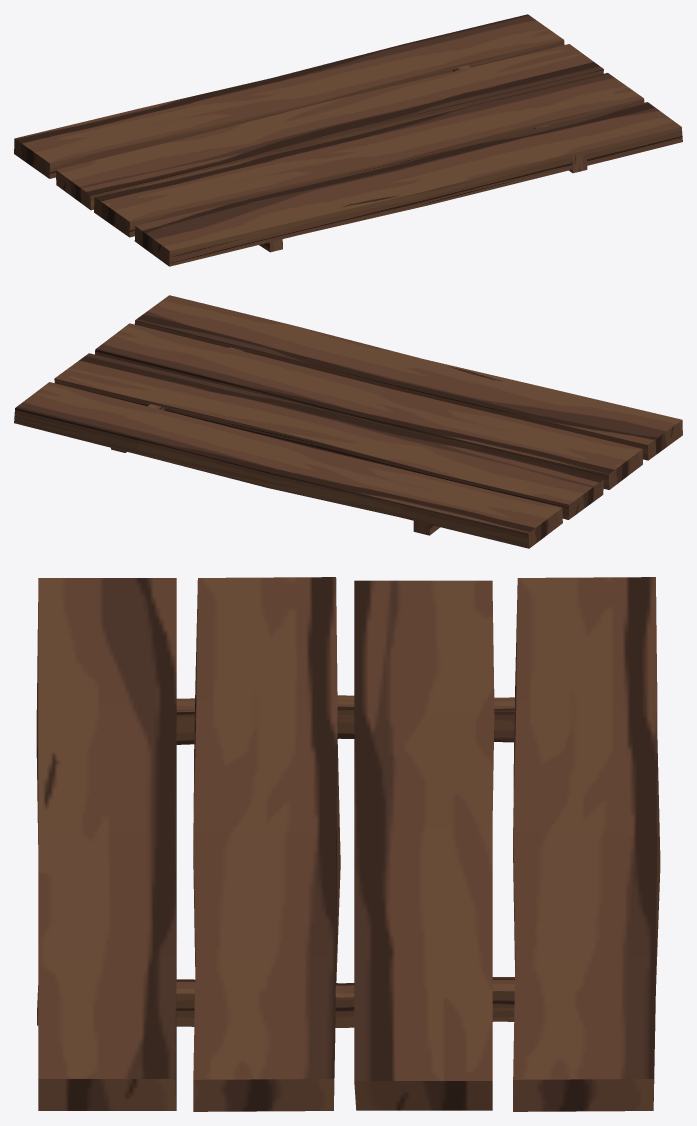
The model's file is fence01.fbx.
3 views of the same model, one above another, from view 1: azimuth 30°, elevation 25°; view 2: azimuth 150°, elevation 25°; view 3: azimuth 270°, elevation 25° (orthographic). The views are drawn at different scales.
Visible parts, largest first — view 1: door01; view 2: door01; view 3: door01.
Boxes of the visible parts, left/top/right/bottom form: door01: left=14, top=14, right=682, bottom=266; door01: left=14, top=295, right=682, bottom=548; door01: left=36, top=577, right=660, bottom=1111.
Bounding box in the file's own units: 12.21 × 6.4 × 0.6395.
